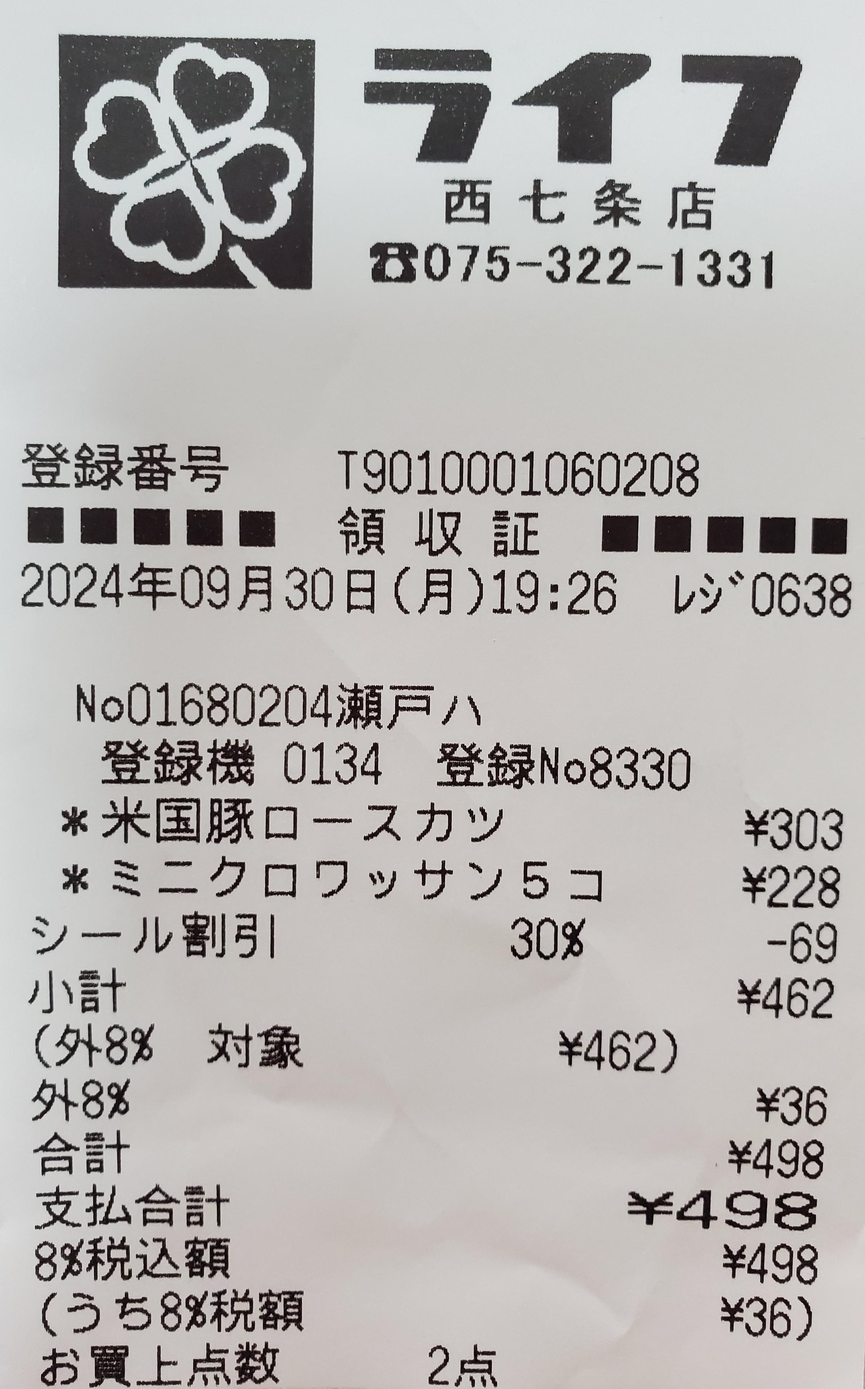TEL: (418, 234, 801, 304)
date: (9, 553, 389, 624)
total: (677, 1179, 822, 1232)
